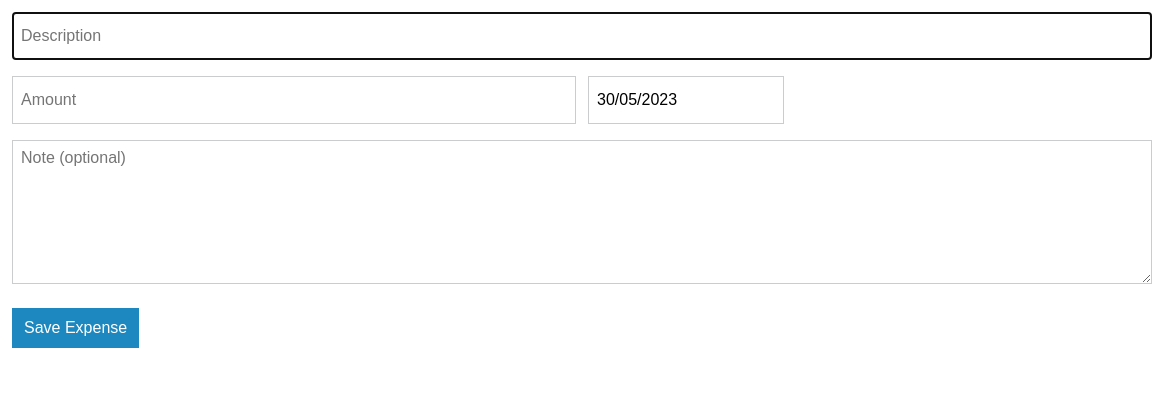
Test: ExpenseForm component tests › Should render error message
Click the button "Save Expense" at [76, 328], box [12,308,139,348]
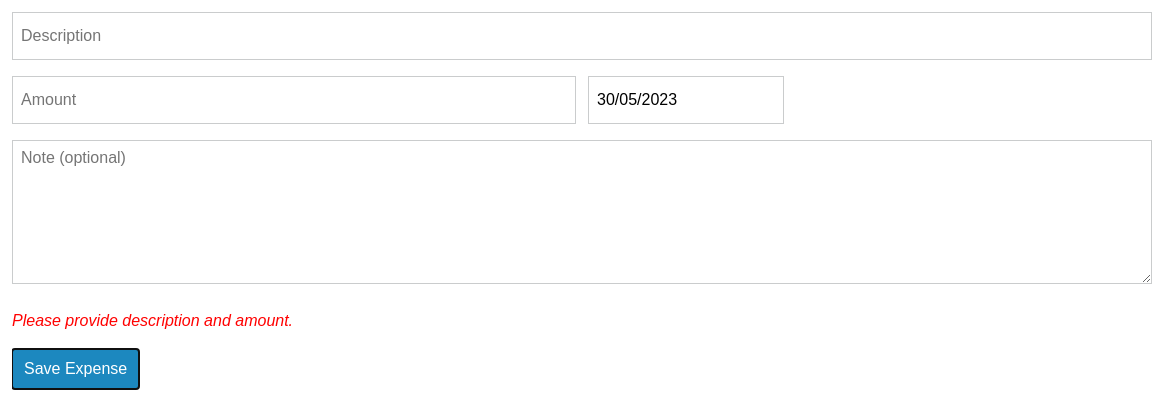
Expected: the text "Please provide description and amount." is shown, [12,312,293,329]
